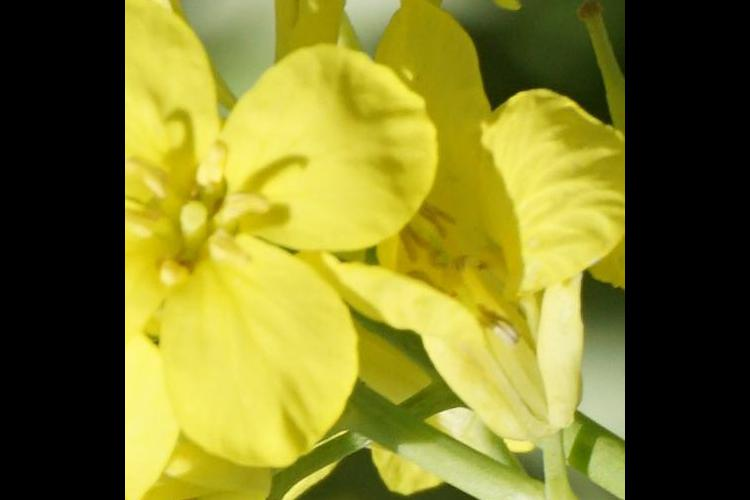pod: (583, 1, 623, 146)
yellow: (135, 1, 411, 495), (344, 5, 600, 461), (139, 1, 535, 39)
